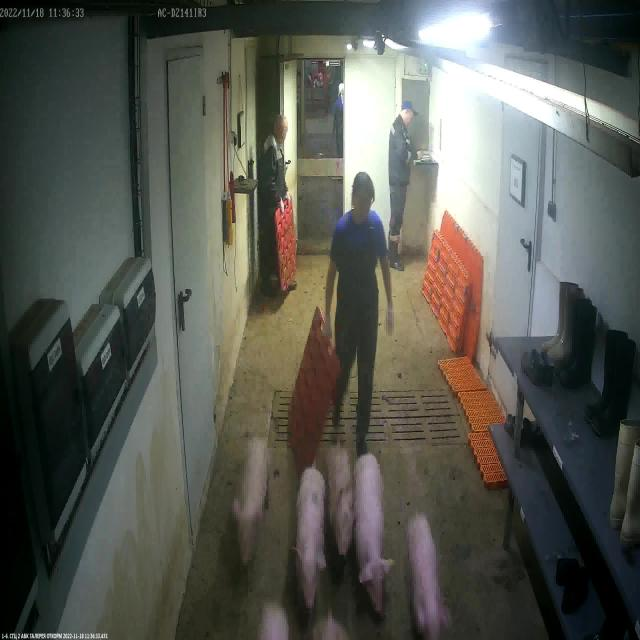pig: (356, 455, 392, 618), (408, 514, 451, 640), (295, 466, 327, 615), (237, 440, 272, 567), (329, 446, 355, 560), (263, 608, 288, 640), (316, 619, 346, 640)
